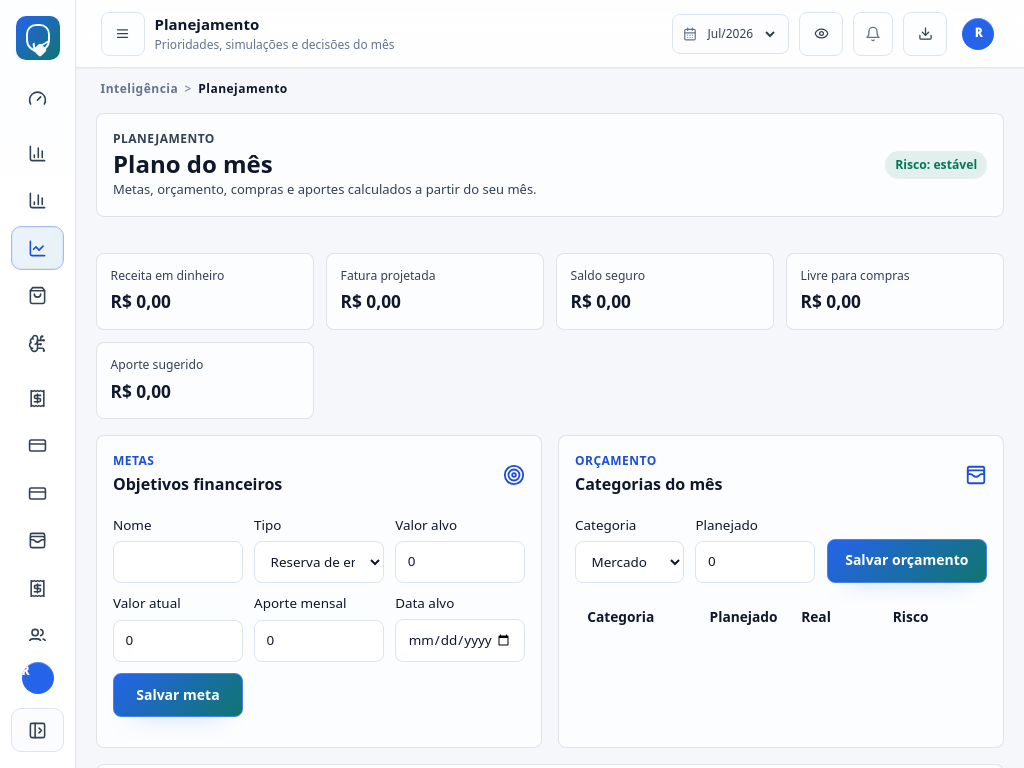
Test: Release 8 planning, goals, budget and wishlist identity › creates a financial goal without creating a transaction
In the field with test id "goal-name": (178, 562) [113, 541, 243, 583], type "Reserva Release 8"
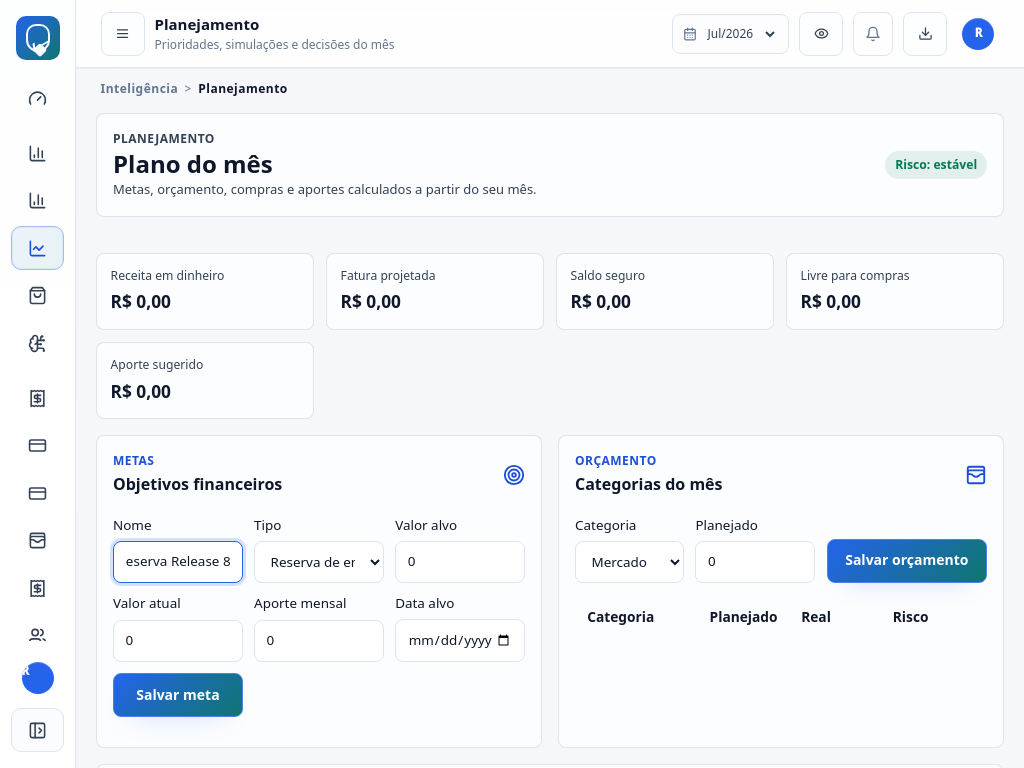
Replace the text in the number field with test id "goal-target" with "12000": (460, 562) [395, 541, 525, 583]
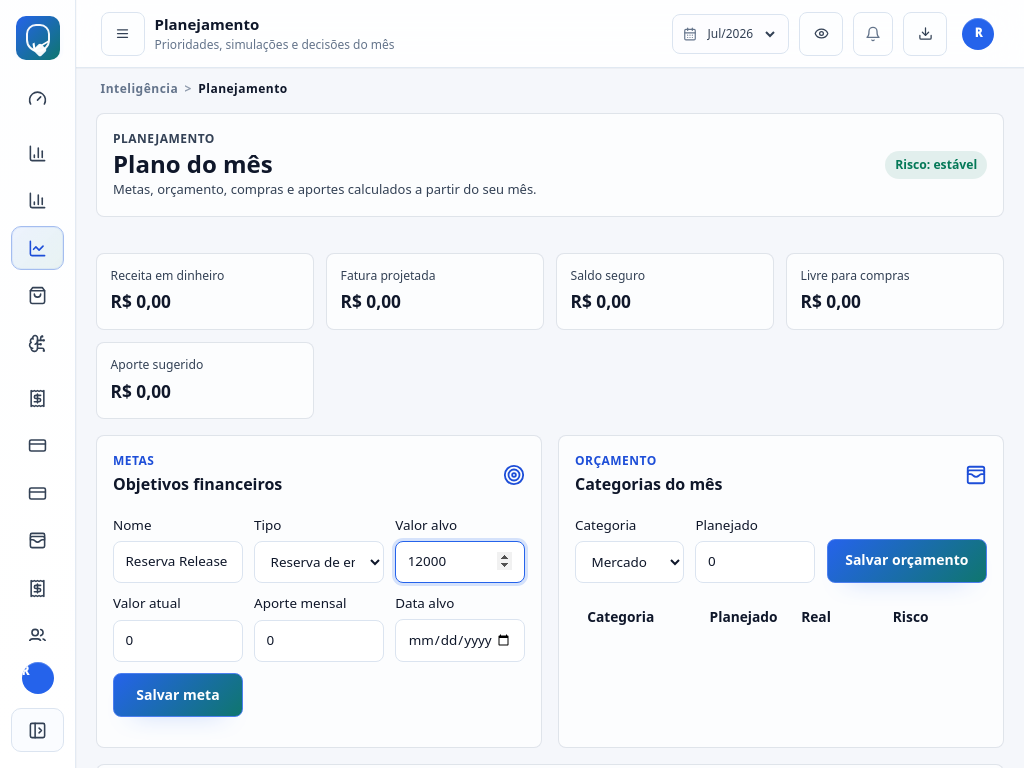
Click the button "Salvar meta": (178, 696) [113, 674, 243, 718]
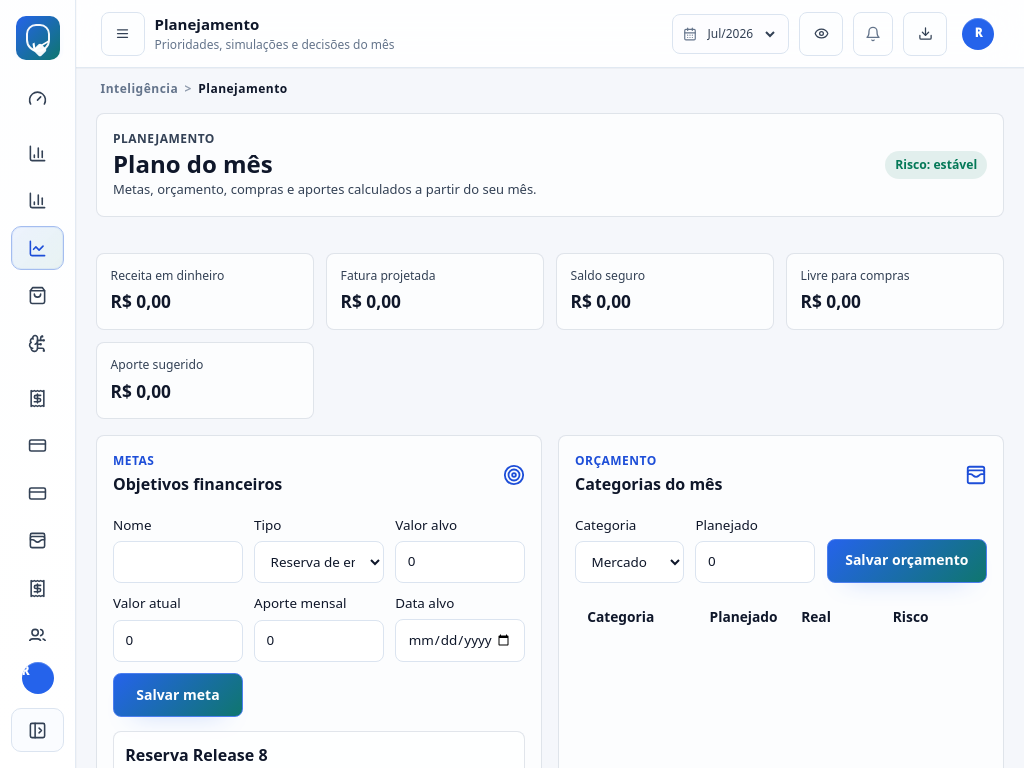
Result: the text "Reserva Release 8" is shown at [125, 744, 268, 766]
